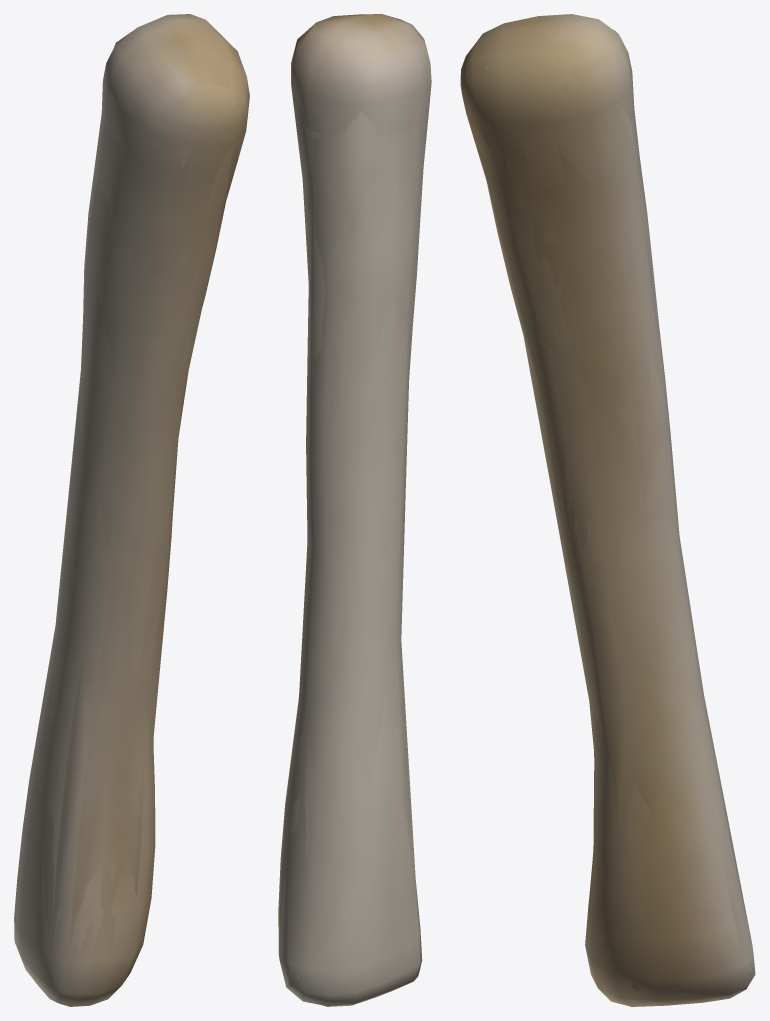
Rendered from R metacarpi quintum.fbx.
The picture shows the model from 3 angles, left to right: view 1: azimuth 30°, elevation 25°; view 2: azimuth 150°, elevation 25°; view 3: azimuth 270°, elevation 25°; orthographic projection. The views are drawn at different scales.
Visible parts, largest first — view 1: R metacarpi quintum low, R metacarpi quintum, R metacarpi quintum high; view 2: R metacarpi quintum, R metacarpi quintum low, R metacarpi quintum high; view 3: R metacarpi quintum low, R metacarpi quintum, R metacarpi quintum high.
Part boxes in pixels (x1,y1,x2,y2): R metacarpi quintum low: [22, 14, 248, 1004]; R metacarpi quintum: [14, 14, 249, 1006]; R metacarpi quintum high: [21, 17, 247, 999]; R metacarpi quintum: [278, 14, 431, 1006]; R metacarpi quintum low: [278, 14, 431, 1006]; R metacarpi quintum high: [283, 15, 423, 1005]; R metacarpi quintum low: [460, 14, 754, 1005]; R metacarpi quintum: [460, 14, 755, 1006]; R metacarpi quintum high: [465, 32, 751, 1003].
Bounding box in the file's own units: 0.9897 × 5.96 × 1.58.
